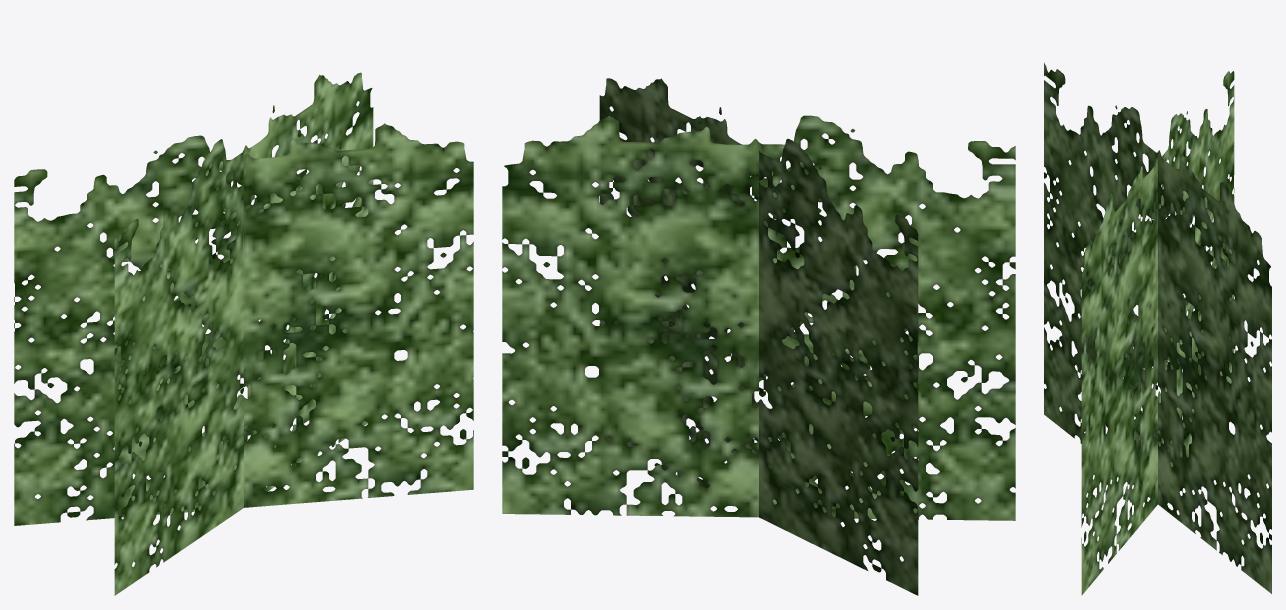
File: bush_overgrown_summer.fbx
3 renders of one model, left to right at view 1: azimuth 30°, elevation 25°; view 2: azimuth 150°, elevation 25°; view 3: azimuth 270°, elevation 25°, orthographic. The views are drawn at different scales.
Parts seen in each view (by area): view 1: bush_overgrown_summer; view 2: bush_overgrown_summer; view 3: bush_overgrown_summer.
Boxes of the visible parts, bbox=[...] form: bush_overgrown_summer: bbox=[14, 72, 473, 595]; bush_overgrown_summer: bbox=[502, 78, 1015, 595]; bush_overgrown_summer: bbox=[1044, 62, 1271, 595].
Size of the model in its own units: 105 by 106 by 54.93.
1 material, 1 textured.
